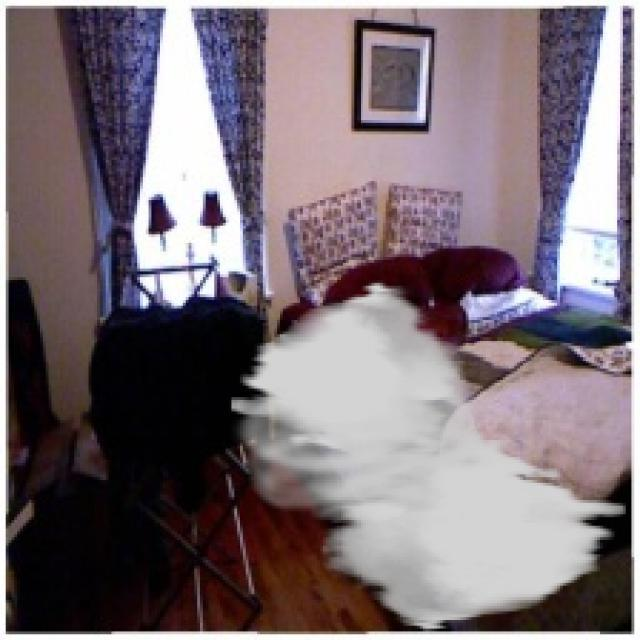Smoke: (228, 279, 626, 632)
